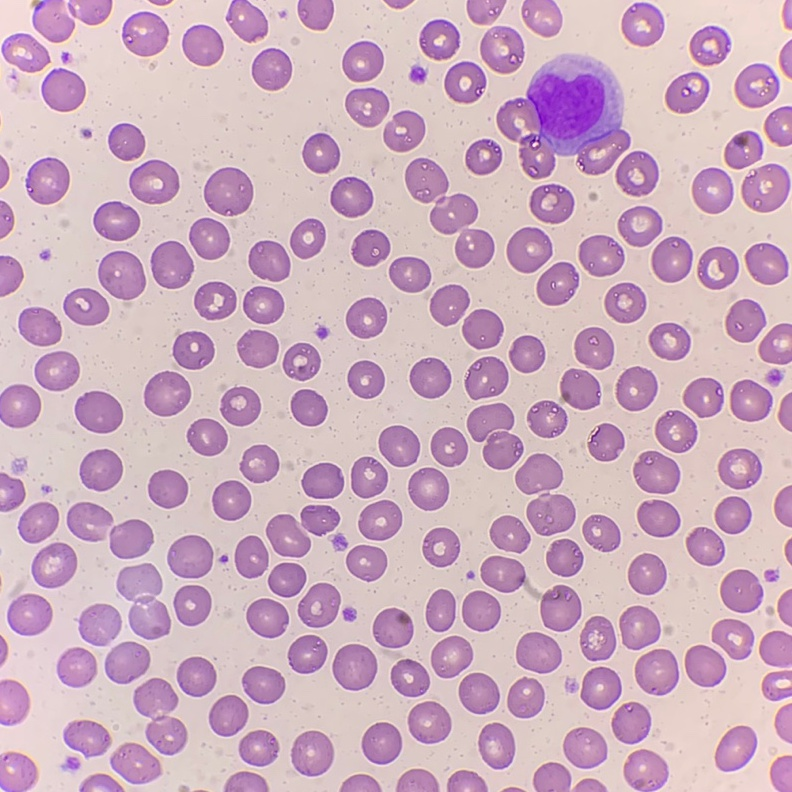RBC: (497, 54, 629, 178), (430, 194, 493, 267), (134, 678, 187, 754), (117, 564, 170, 638), (467, 404, 522, 469), (204, 168, 252, 215), (98, 251, 145, 299), (742, 164, 789, 211), (130, 160, 178, 203), (507, 227, 551, 272), (145, 372, 190, 416), (481, 26, 523, 73), (32, 543, 76, 587), (26, 158, 69, 203), (333, 644, 376, 689), (635, 649, 678, 694), (151, 241, 192, 288), (75, 391, 122, 432), (527, 494, 574, 535), (111, 743, 160, 782), (123, 12, 167, 55), (634, 451, 679, 493), (168, 535, 212, 577), (735, 64, 777, 107), (405, 158, 447, 201), (266, 514, 309, 556), (616, 151, 657, 195), (579, 235, 623, 276), (105, 642, 149, 683), (292, 731, 333, 775), (541, 585, 581, 630), (516, 632, 561, 672), (516, 454, 562, 493), (42, 70, 85, 111), (537, 262, 578, 305), (298, 583, 339, 626), (624, 750, 667, 791), (652, 237, 692, 281), (716, 726, 756, 770), (622, 3, 663, 45), (465, 357, 507, 398), (655, 410, 696, 452), (80, 449, 122, 490), (721, 570, 762, 612), (618, 206, 661, 246), (0, 384, 40, 427), (8, 594, 51, 634), (693, 168, 732, 212), (94, 202, 139, 240), (2, 34, 48, 71), (746, 243, 787, 284), (431, 636, 472, 677), (33, 0, 73, 42), (666, 72, 708, 112), (408, 702, 450, 742), (35, 351, 78, 390), (617, 367, 656, 410), (110, 519, 153, 558), (227, 0, 267, 41), (331, 177, 372, 217), (189, 218, 229, 259), (698, 247, 738, 288), (620, 606, 659, 648), (564, 728, 606, 767), (67, 502, 110, 540), (64, 288, 108, 325), (445, 62, 485, 102), (384, 111, 424, 151), (731, 380, 771, 420), (379, 426, 419, 466), (685, 646, 725, 686), (459, 673, 499, 713), (726, 300, 765, 341), (719, 449, 760, 488), (409, 468, 448, 509), (81, 604, 120, 645), (581, 667, 620, 708), (346, 88, 388, 126), (19, 307, 61, 345), (359, 501, 401, 539), (530, 185, 573, 222), (481, 556, 525, 592), (183, 25, 222, 65), (343, 41, 382, 81), (252, 49, 291, 89), (249, 241, 289, 280), (605, 283, 645, 322), (346, 298, 386, 337), (410, 358, 450, 397), (19, 502, 58, 542), (712, 619, 752, 658), (362, 723, 401, 763), (247, 599, 288, 637), (612, 702, 650, 743), (479, 724, 514, 768), (65, 721, 110, 755), (463, 309, 502, 348), (575, 328, 613, 368), (561, 369, 599, 409), (628, 554, 666, 594), (209, 695, 247, 735), (194, 282, 235, 319), (237, 330, 278, 367), (580, 616, 615, 659), (420, 20, 459, 58), (430, 285, 468, 324), (221, 387, 260, 425), (462, 591, 500, 630), (373, 609, 412, 647), (57, 648, 96, 686), (177, 657, 215, 696), (243, 286, 283, 323), (173, 332, 213, 369), (649, 323, 690, 359), (638, 500, 679, 536), (243, 667, 284, 703), (684, 378, 722, 416), (690, 26, 727, 65), (148, 470, 187, 507), (213, 481, 250, 520), (303, 133, 339, 173), (351, 457, 387, 497), (174, 585, 210, 625), (302, 463, 343, 498), (240, 445, 278, 482), (686, 527, 723, 565), (391, 659, 429, 696), (0, 753, 37, 791), (522, 0, 561, 36), (187, 419, 226, 455), (390, 257, 430, 292), (725, 131, 762, 168), (289, 635, 326, 672), (528, 401, 566, 437), (431, 428, 467, 466), (423, 528, 459, 566), (490, 516, 529, 551), (347, 545, 386, 580), (508, 678, 543, 717), (235, 536, 268, 577), (546, 539, 582, 576), (290, 219, 325, 257), (239, 731, 278, 765), (108, 124, 144, 160), (283, 343, 319, 379), (348, 361, 384, 397), (583, 515, 619, 551), (352, 230, 389, 265), (589, 424, 624, 460), (715, 497, 750, 533), (759, 324, 791, 363), (0, 680, 29, 723), (466, 139, 501, 174), (291, 390, 326, 425), (510, 336, 544, 372), (269, 563, 305, 596), (426, 590, 455, 630), (760, 631, 791, 666), (301, 505, 338, 533), (298, 0, 333, 29), (765, 106, 791, 145), (534, 763, 570, 791), (70, 0, 111, 24), (396, 769, 438, 791), (0, 473, 24, 511), (0, 256, 22, 295), (467, 0, 504, 23), (224, 772, 268, 791), (447, 771, 487, 791), (79, 774, 121, 791), (771, 756, 791, 791), (775, 486, 791, 526), (341, 775, 380, 791), (775, 705, 791, 741), (0, 201, 13, 236), (778, 591, 791, 624), (779, 394, 791, 429), (780, 42, 791, 75), (575, 779, 605, 791), (763, 680, 779, 699), (410, 66, 425, 82), (0, 159, 8, 185), (332, 534, 345, 550), (766, 370, 780, 384), (12, 458, 26, 470), (0, 639, 7, 662), (388, 0, 408, 7), (343, 608, 355, 619), (66, 757, 78, 768), (785, 542, 791, 559), (80, 128, 91, 137), (766, 570, 774, 580), (63, 54, 71, 62), (318, 328, 326, 336), (785, 0, 791, 10), (155, 0, 165, 4), (179, 787, 188, 791), (787, 671, 791, 679)
